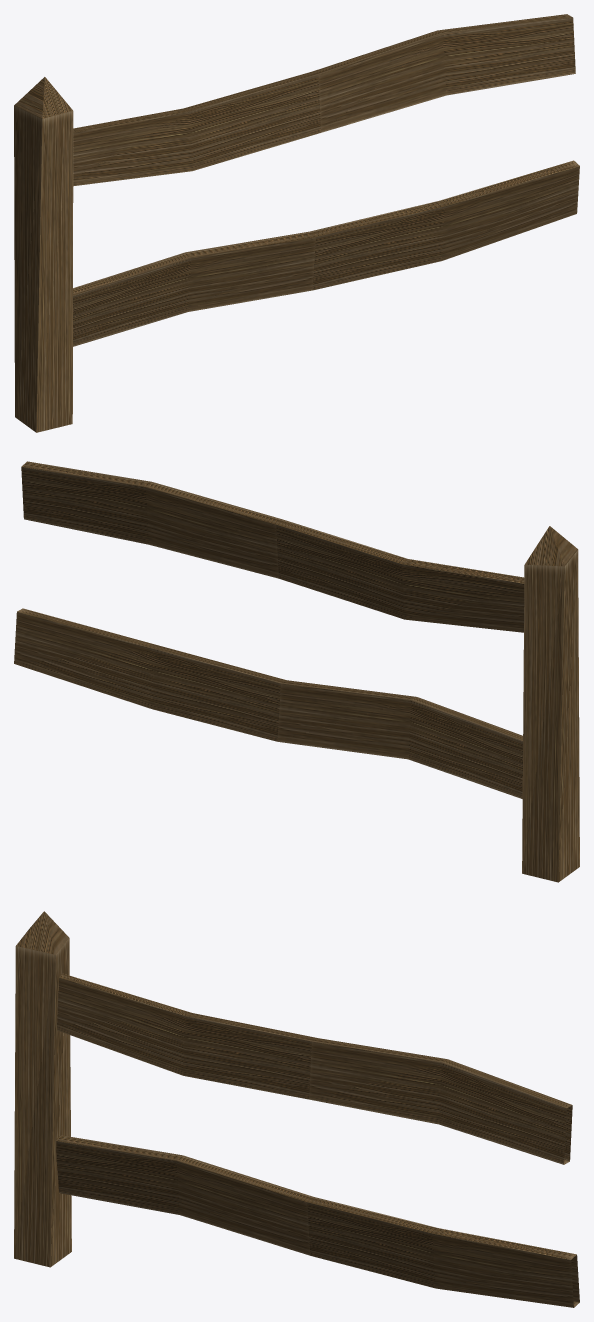
Rendered from p2_fence1.fbx.
The picture shows the model from 3 angles, top to bottom: view 1: azimuth 30°, elevation 25°; view 2: azimuth 150°, elevation 25°; view 3: azimuth 330°, elevation 25°; orthographic projection.
Visible parts, largest first — view 1: Group000Mat; view 2: Group000Mat; view 3: Group000Mat.
Boxes of the visible parts, box(x1,y1,x2,y2) form: Group000Mat: box(14, 14, 579, 432); Group000Mat: box(14, 461, 579, 882); Group000Mat: box(14, 911, 579, 1307).
Size of the model in its own units: 324 by 192 by 25.85.
